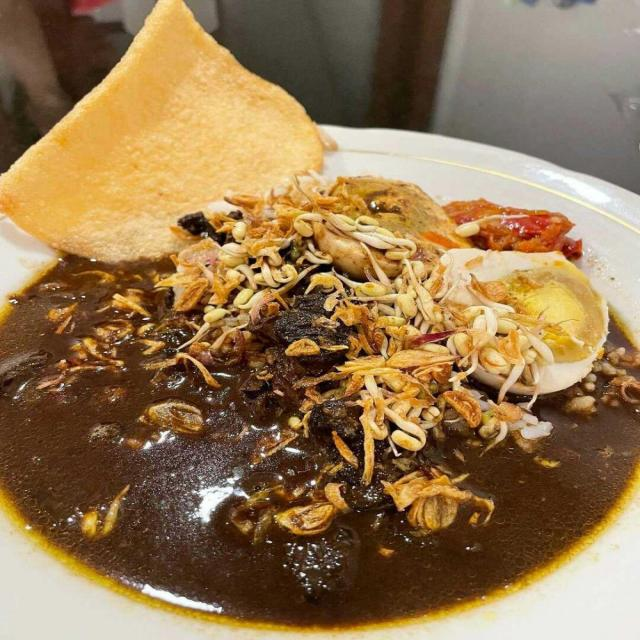Rawon: (0, 206, 614, 583)
